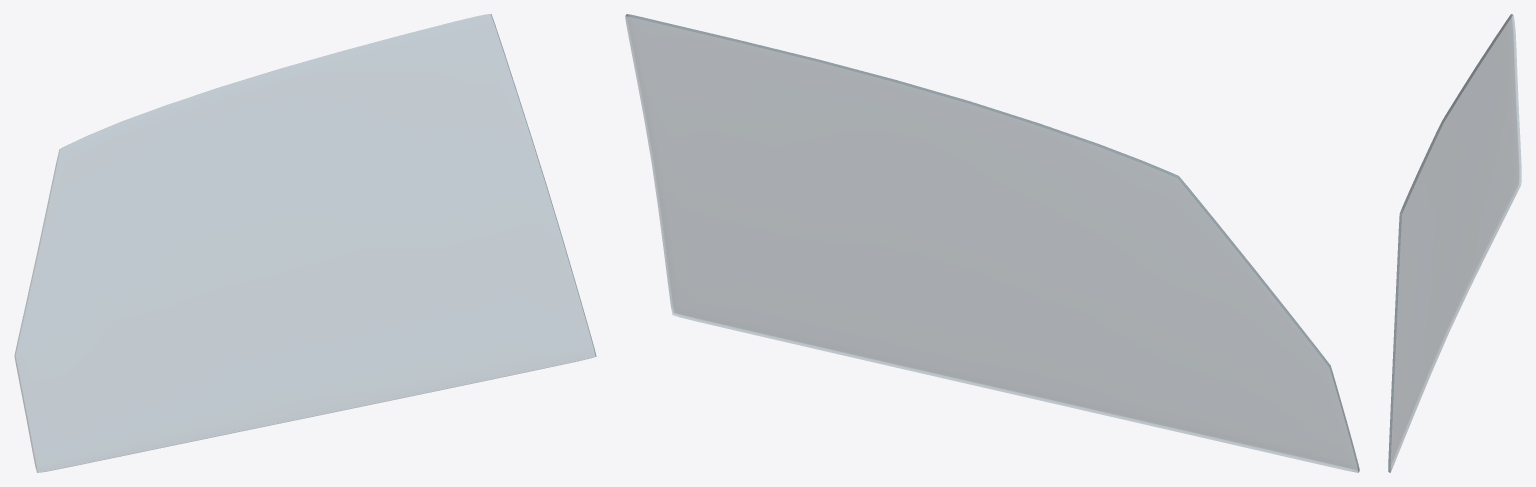
3 views of the same model, side by side, from view 1: azimuth 30°, elevation 25°; view 2: azimuth 150°, elevation 25°; view 3: azimuth 270°, elevation 25° (orthographic). The views are drawn at different scales.
Parts seen in each view (by area): view 1: SM_LincolnMKZ_Door_RR_Glass_Ext1; view 2: SM_LincolnMKZ_Door_RR_Glass_Ext1; view 3: SM_LincolnMKZ_Door_RR_Glass_Ext1.
Boxes of the visible parts, x1=… form: SM_LincolnMKZ_Door_RR_Glass_Ext1: x1=14, y1=14, x2=596, y2=472; SM_LincolnMKZ_Door_RR_Glass_Ext1: x1=625, y1=14, x2=1359, y2=472; SM_LincolnMKZ_Door_RR_Glass_Ext1: x1=1388, y1=14, x2=1521, y2=472.
Bounding box in the file's own units: 0.6963 × 0.3617 × 0.1595.
